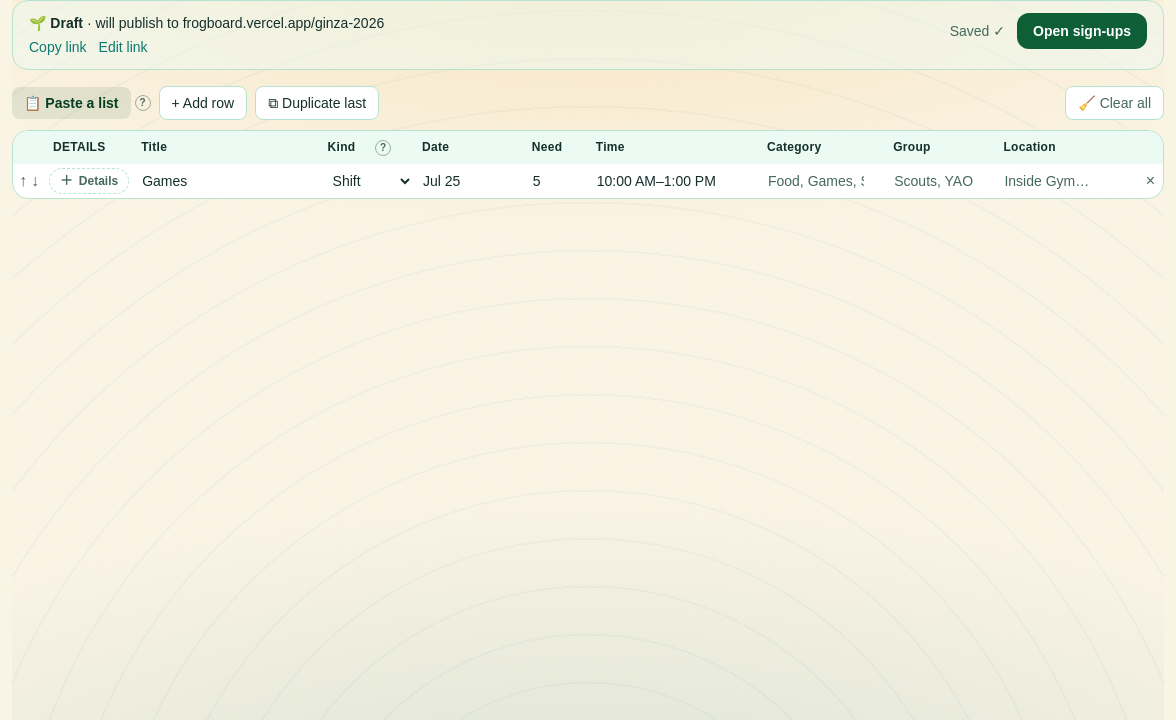
Test: an unparseable cell marks the row and pauses its saving
Replace the text in the field named "Need, row 1" with "lots" at (556, 181), box [524, 164, 588, 198]
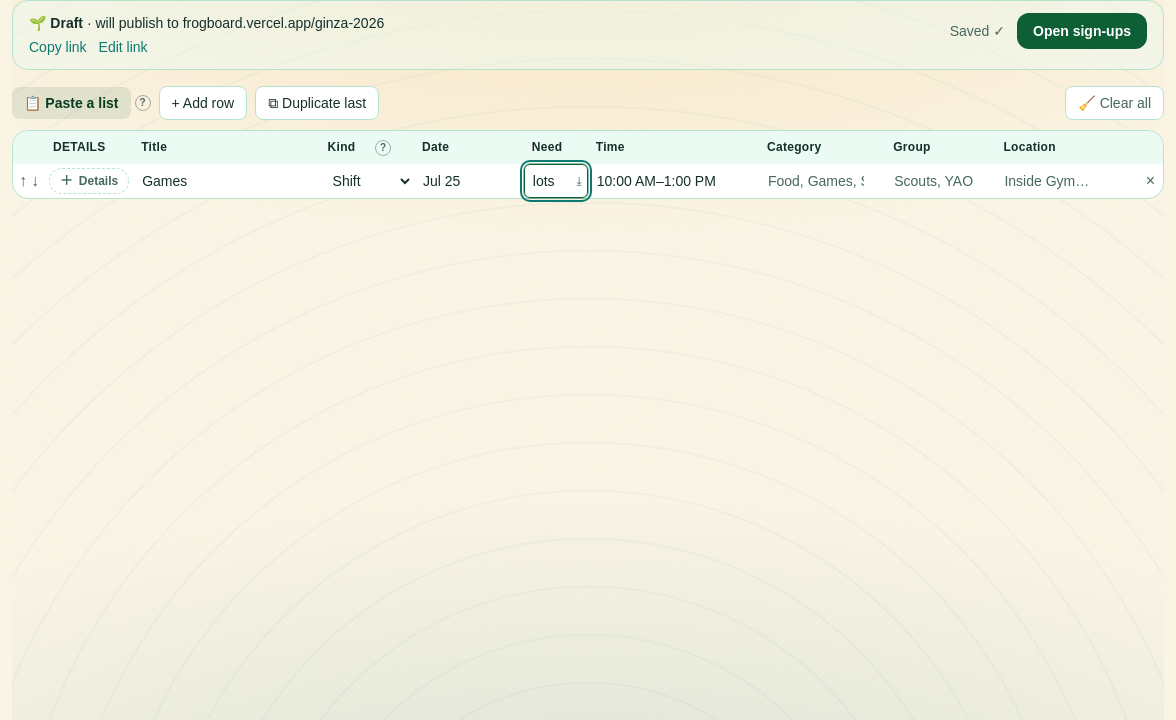
Click the element that starts with "🌱 Draft".
click(588, 360)  # box [12, 0, 1164, 719]
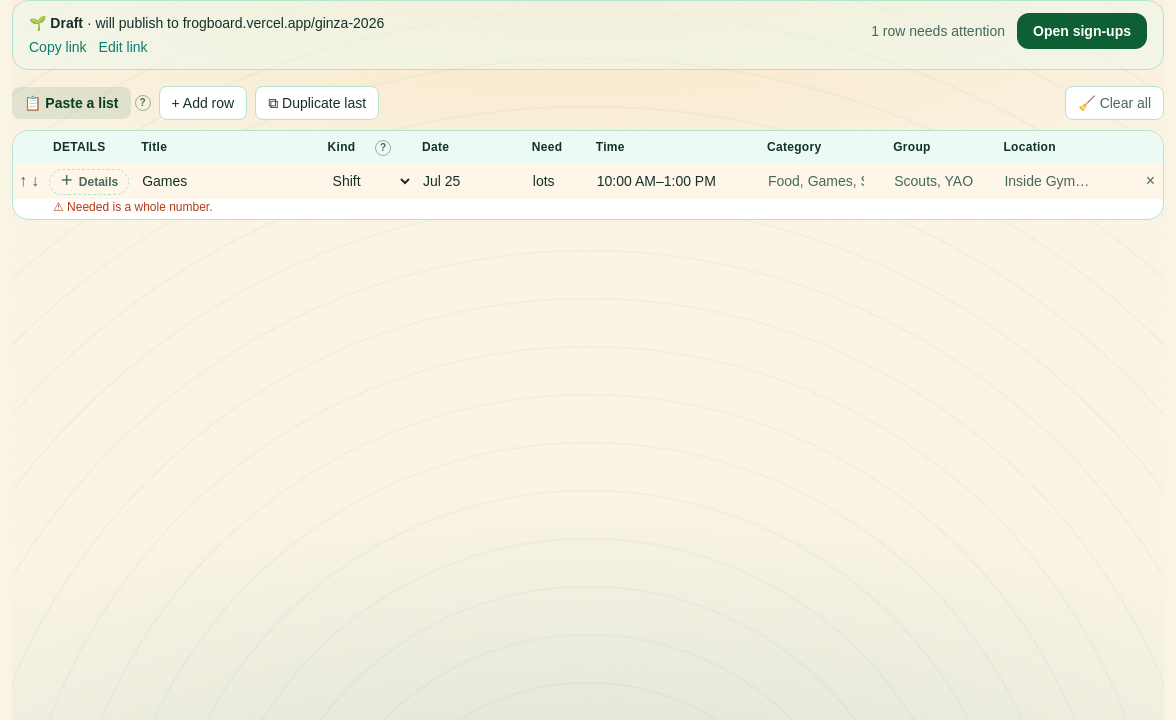
Check: the text "1 row needs attention" is shown, box [871, 21, 1005, 41]
